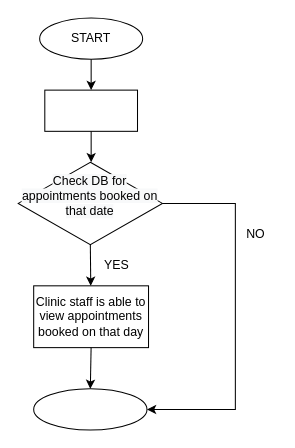
The diagram is 295 pixels wide and 448 high, and some of its shapes have lost their labels. Each missing label, with the centre of its shape:
Select date: point (91, 110)
STOP: point (90, 409)
